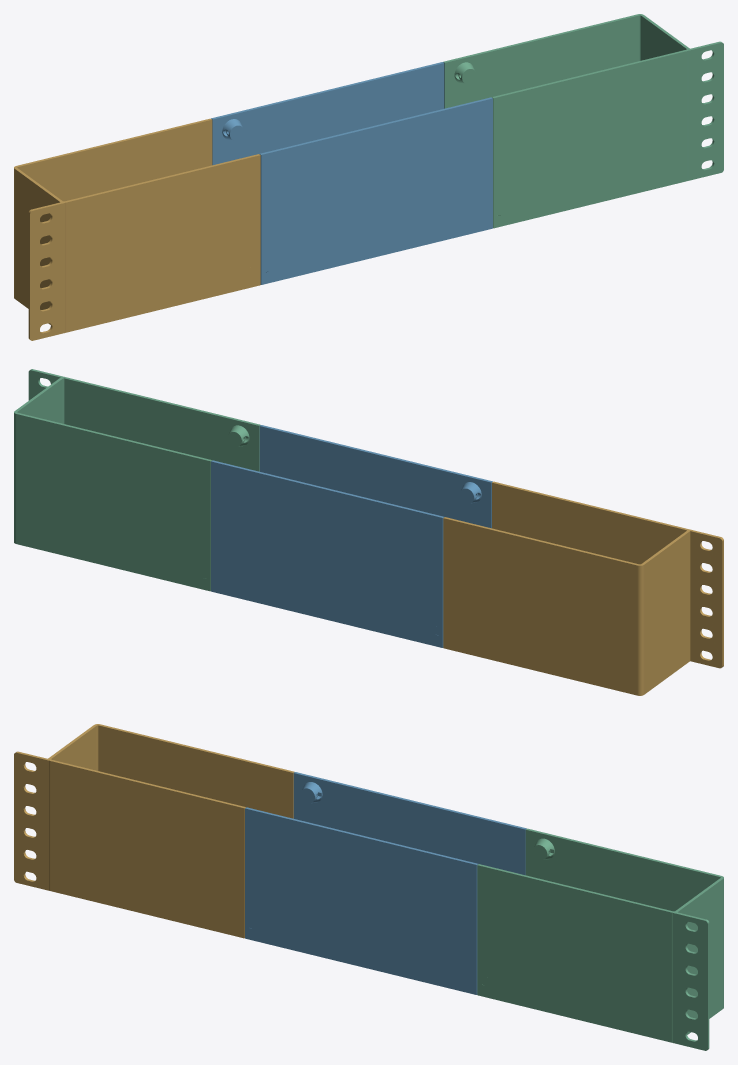
The model's file is rack_2u.glb.
3 renders of one model, top to bottom at view 1: azimuth 30°, elevation 25°; view 2: azimuth 150°, elevation 25°; view 3: azimuth 330°, elevation 25°, orthographic.
Visible parts, largest first — view 1: piece2, piece1, piece3; view 2: piece1, piece2, piece3; view 3: piece2, piece3, piece1.
Part boxes in pixels (<box>): piece2: <box>211,62,492,284</box>; piece1: <box>14,118,260,340</box>; piece3: <box>443,14,723,228</box>; piece1: <box>443,481,723,695</box>; piece2: <box>211,425,492,647</box>; piece3: <box>14,369,260,591</box>; piece2: <box>245,772,526,994</box>; piece3: <box>477,828,723,1050</box>; piece1: <box>14,724,294,938</box>.
Bounding box in the file's own units: 496 × 88.9 × 62.
